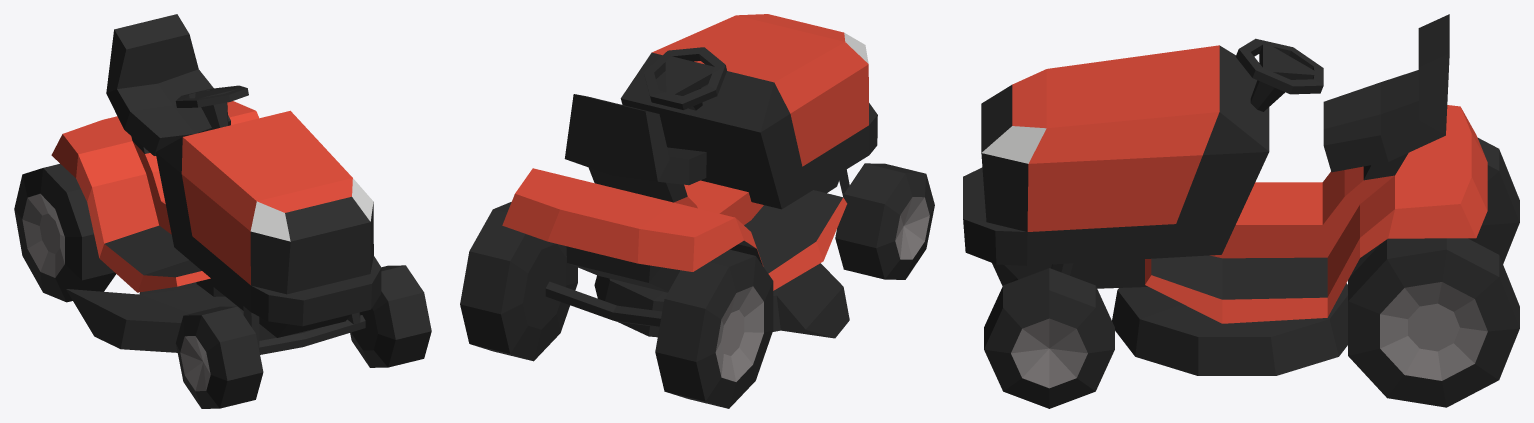
The model's file is vehicles-lawn-mower-ride.glb.
3 renders of one model, left to right at view 1: azimuth 30°, elevation 25°; view 2: azimuth 150°, elevation 25°; view 3: azimuth 270°, elevation 25°, orthographic. The views are drawn at different scales.
Parts seen in each view (by area): view 1: lawn-mower-ride-base, lawn-mower-ride_BR, lawn-mower-ride_FR, lawn-mower-ride_FL; view 2: lawn-mower-ride-base, lawn-mower-ride_BR, lawn-mower-ride_BL, lawn-mower-ride_FR; view 3: lawn-mower-ride-base, lawn-mower-ride_BL, lawn-mower-ride_FL, lawn-mower-ride_BR.
Part boxes in pixels (x1=…): lawn-mower-ride-base: x1=51, y1=14, x2=381, y2=354; lawn-mower-ride_BR: x1=14, y1=164, x2=115, y2=302; lawn-mower-ride_FR: x1=176, y1=306, x2=263, y2=408; lawn-mower-ride_FL: x1=350, y1=265, x2=431, y2=367; lawn-mower-ride-base: x1=502, y1=14, x2=877, y2=338; lawn-mower-ride_BR: x1=655, y1=249, x2=773, y2=408; lawn-mower-ride_BL: x1=460, y1=202, x2=577, y2=361; lawn-mower-ride_FR: x1=835, y1=163, x2=934, y2=279; lawn-mower-ride-base: x1=963, y1=14, x2=1487, y2=375; lawn-mower-ride_BL: x1=1348, y1=238, x2=1519, y2=407; lawn-mower-ride_FL: x1=984, y1=268, x2=1114, y2=408; lawn-mower-ride_BR: x1=1468, y1=137, x2=1519, y2=263.
Size of the model in its own units: 1.26 by 1.27 by 2.05.
